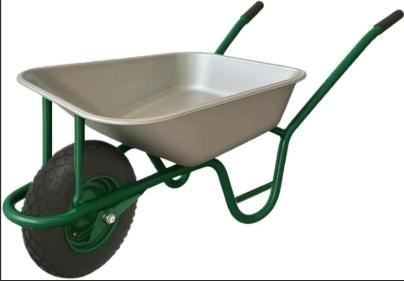BROUETTE: (0, 1, 404, 281)
